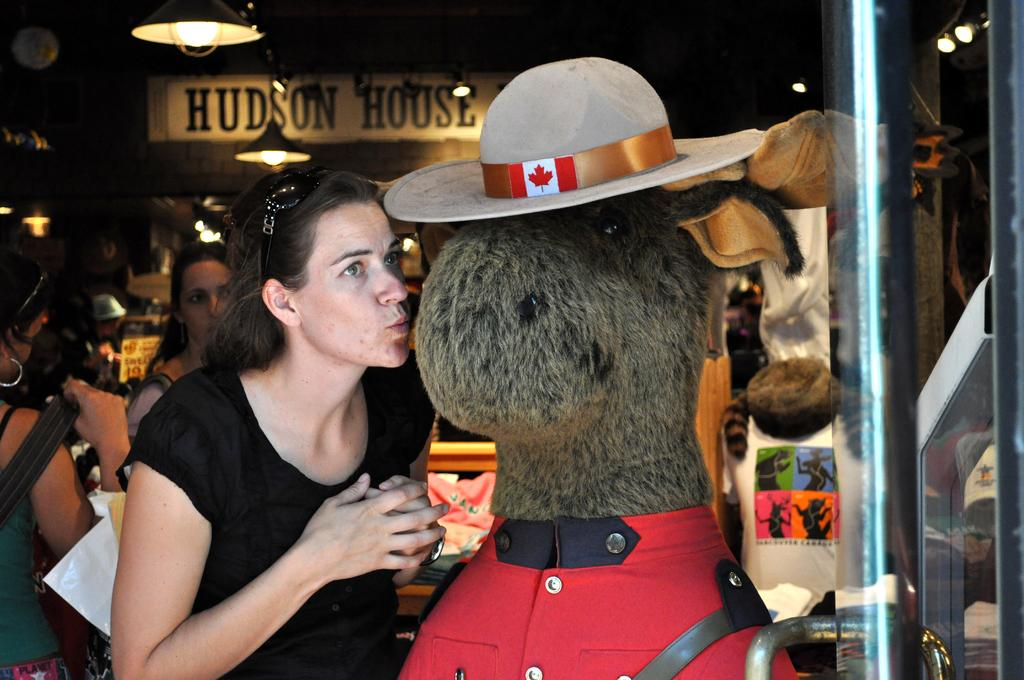Hat: (382, 49, 770, 229)
